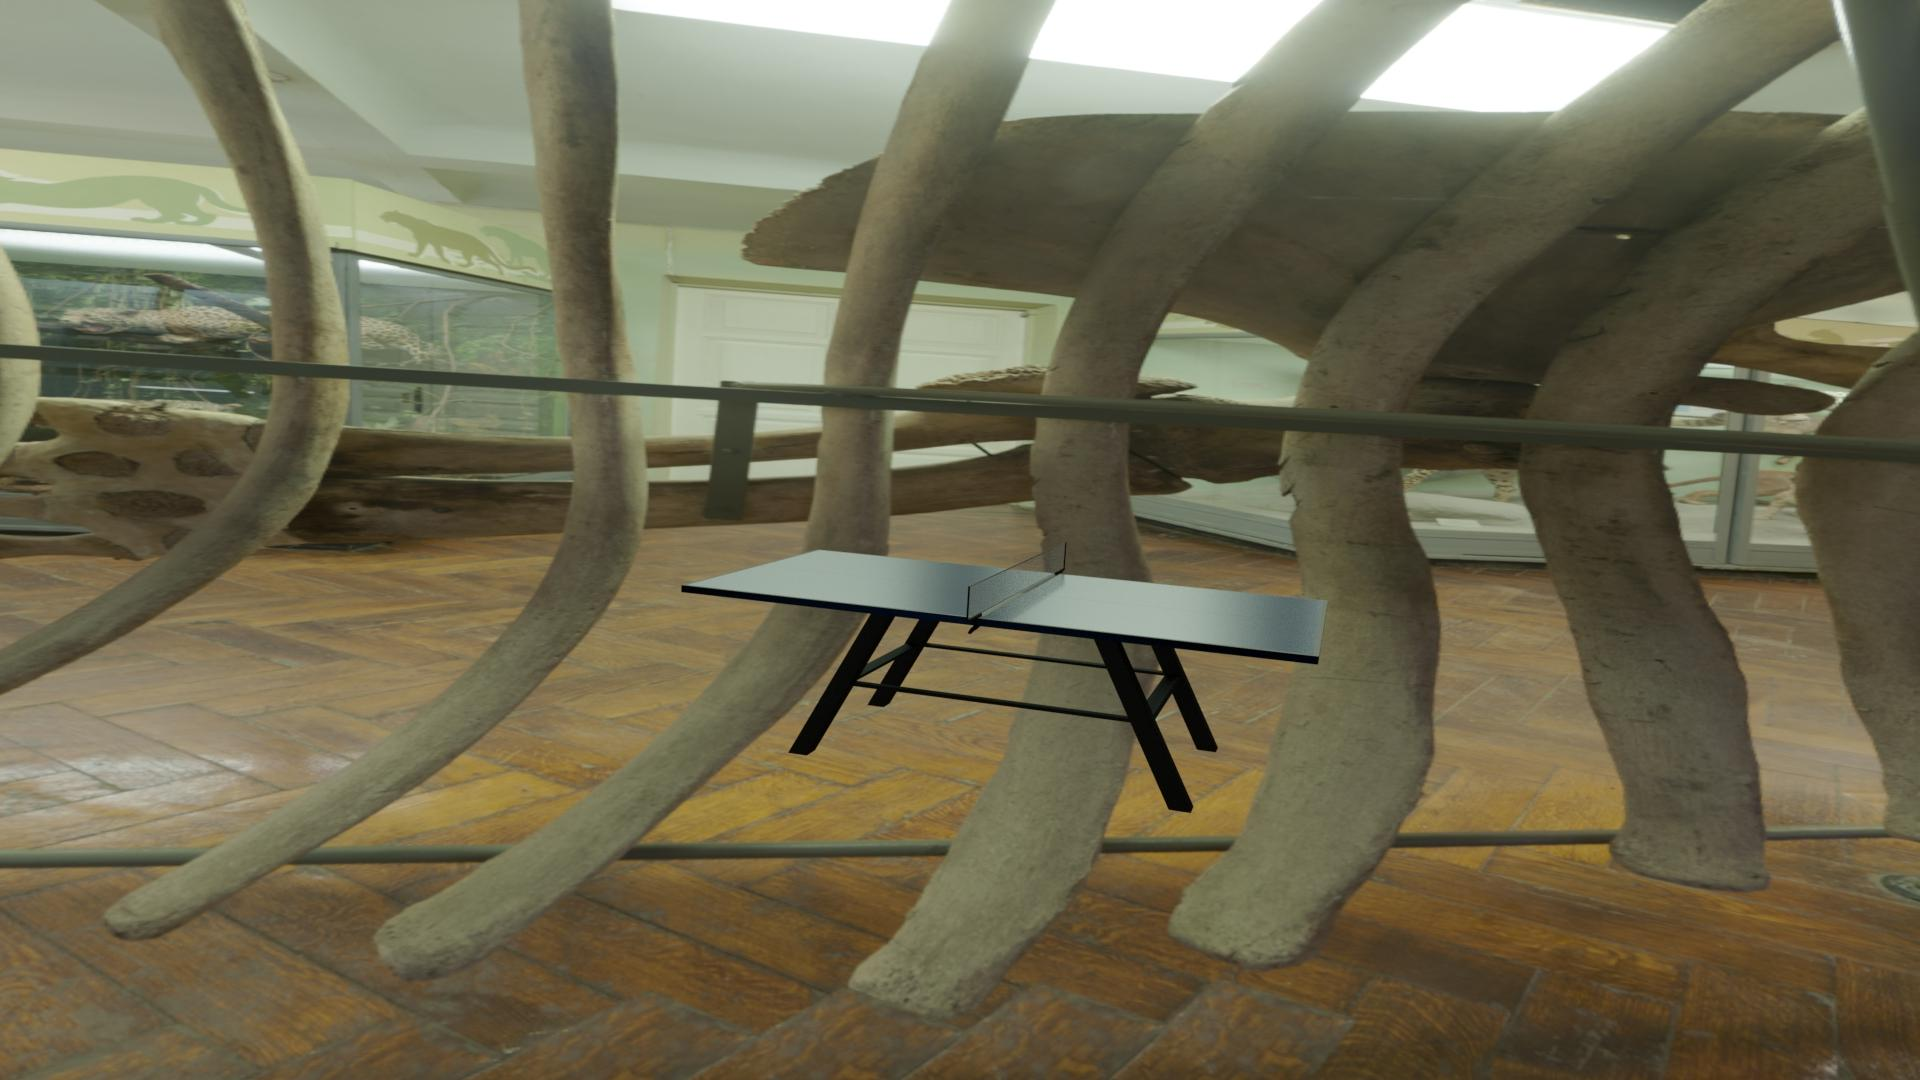table: (687, 550, 1324, 655)
